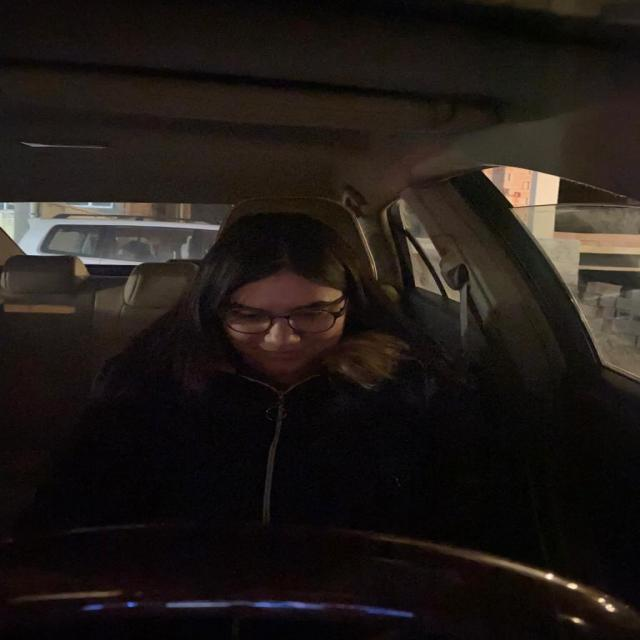drowsy: (202, 239, 364, 389)
